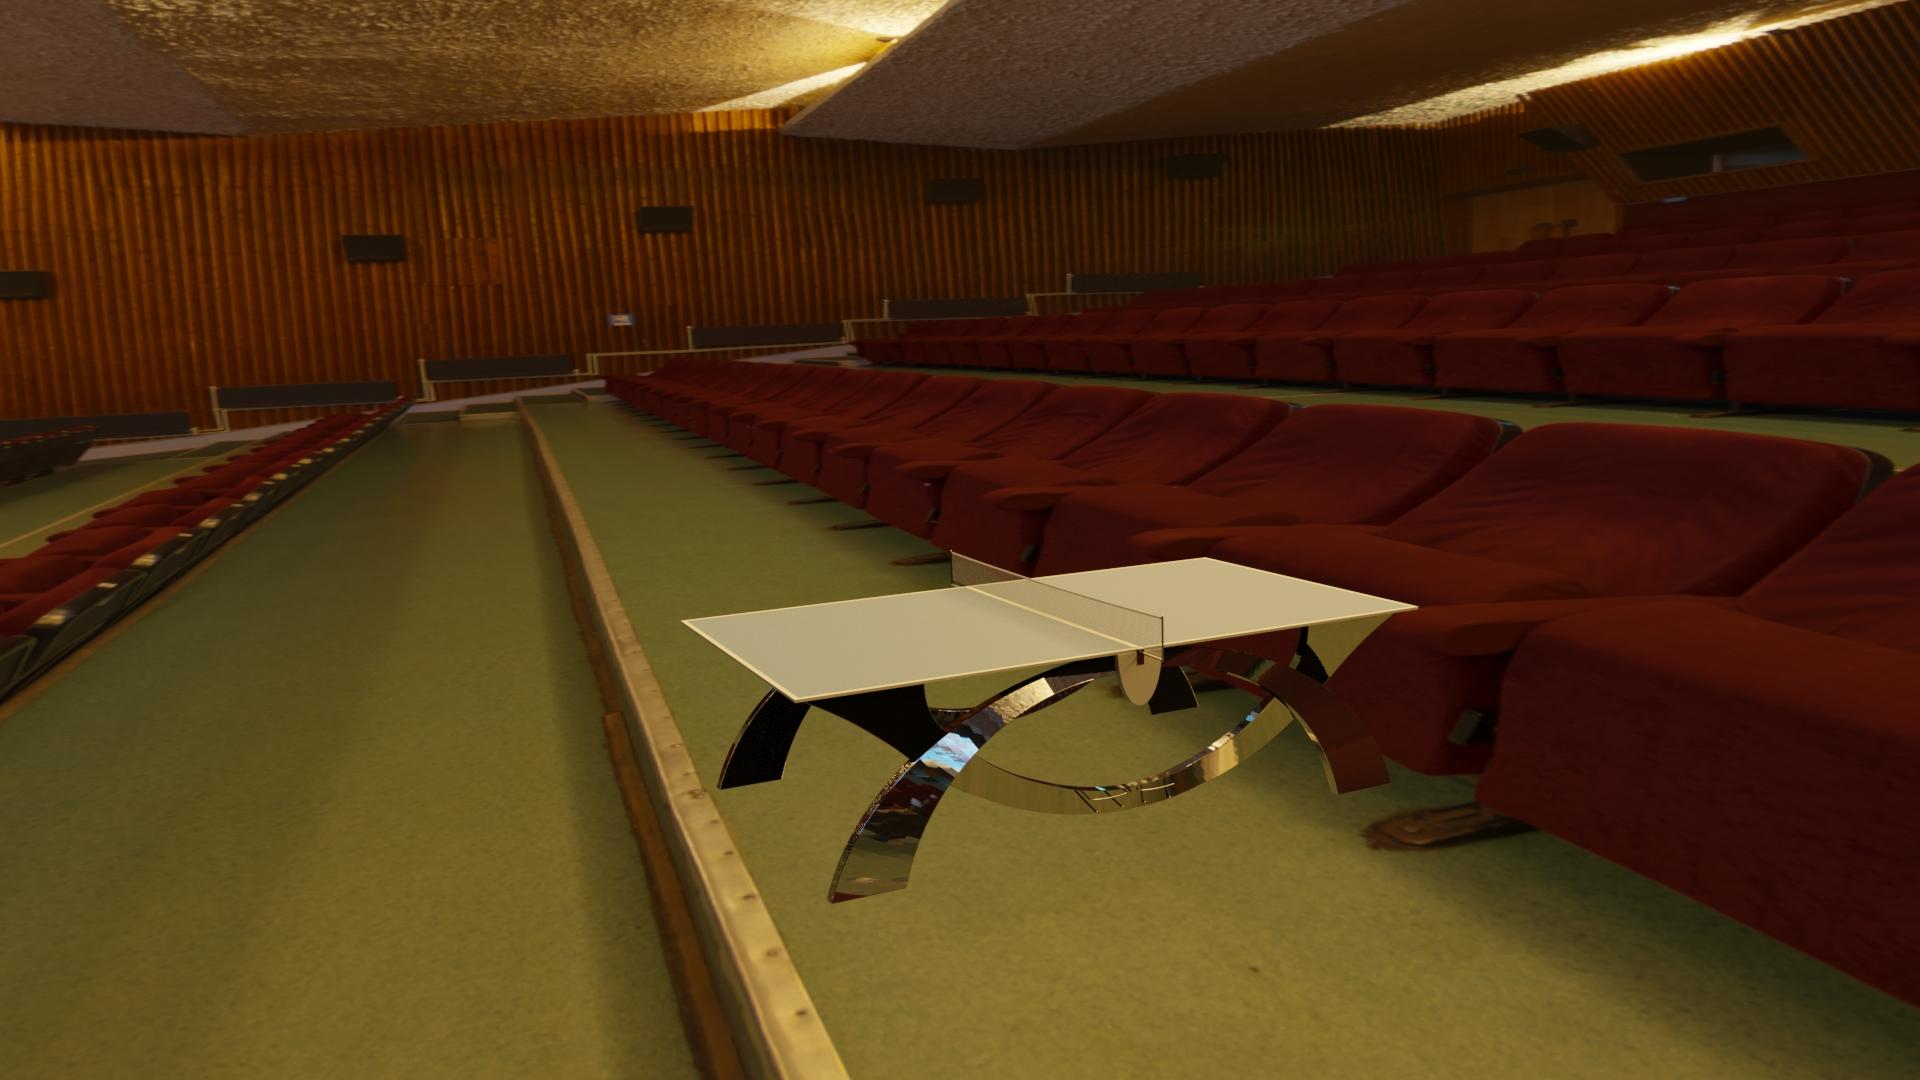table: (687, 559, 1411, 698)
